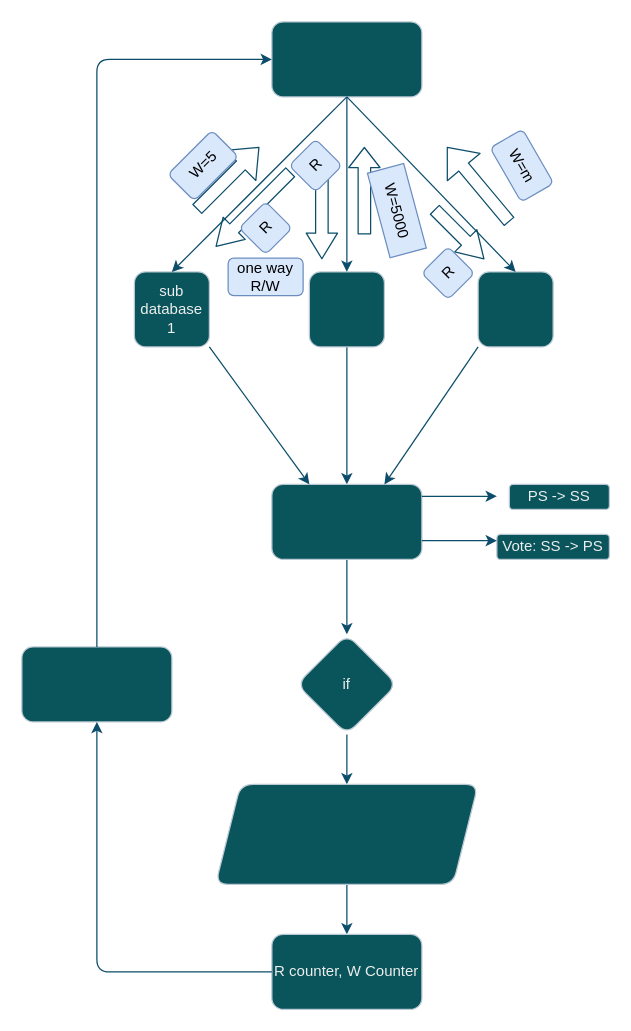
The diagram is 631 pixels wide and 1031 high, and some of its shapes have lost their labels. Each missing label, with the centre of its shape:
P. Store: point (346, 59)
sub database 2: point (346, 309)
sub database n: point (515, 309)
Sync: point (96, 684)
timeout=5s OR 1K Vote/threshold: point (346, 833)
W counter R counter: point (346, 521)
